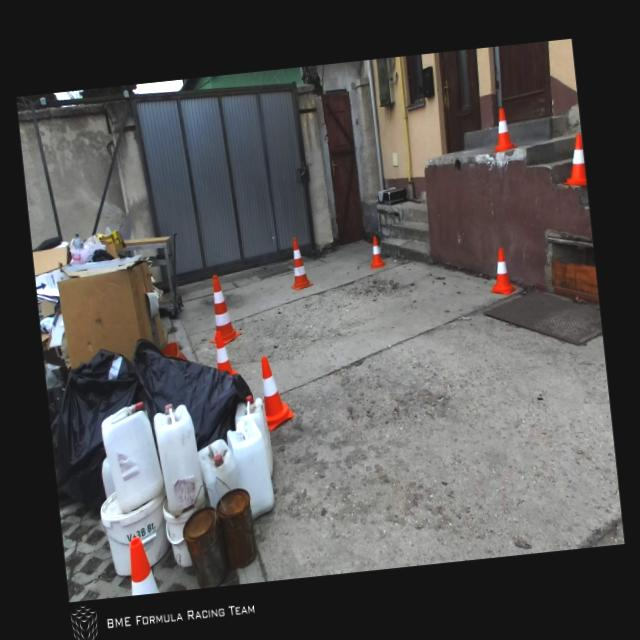large_orange_cone: (202, 271, 242, 345), (286, 236, 313, 290)
orange_cone: (259, 354, 295, 431), (126, 534, 160, 596), (557, 134, 586, 188), (486, 247, 516, 296), (488, 106, 517, 150), (214, 328, 237, 376), (367, 235, 385, 268)
